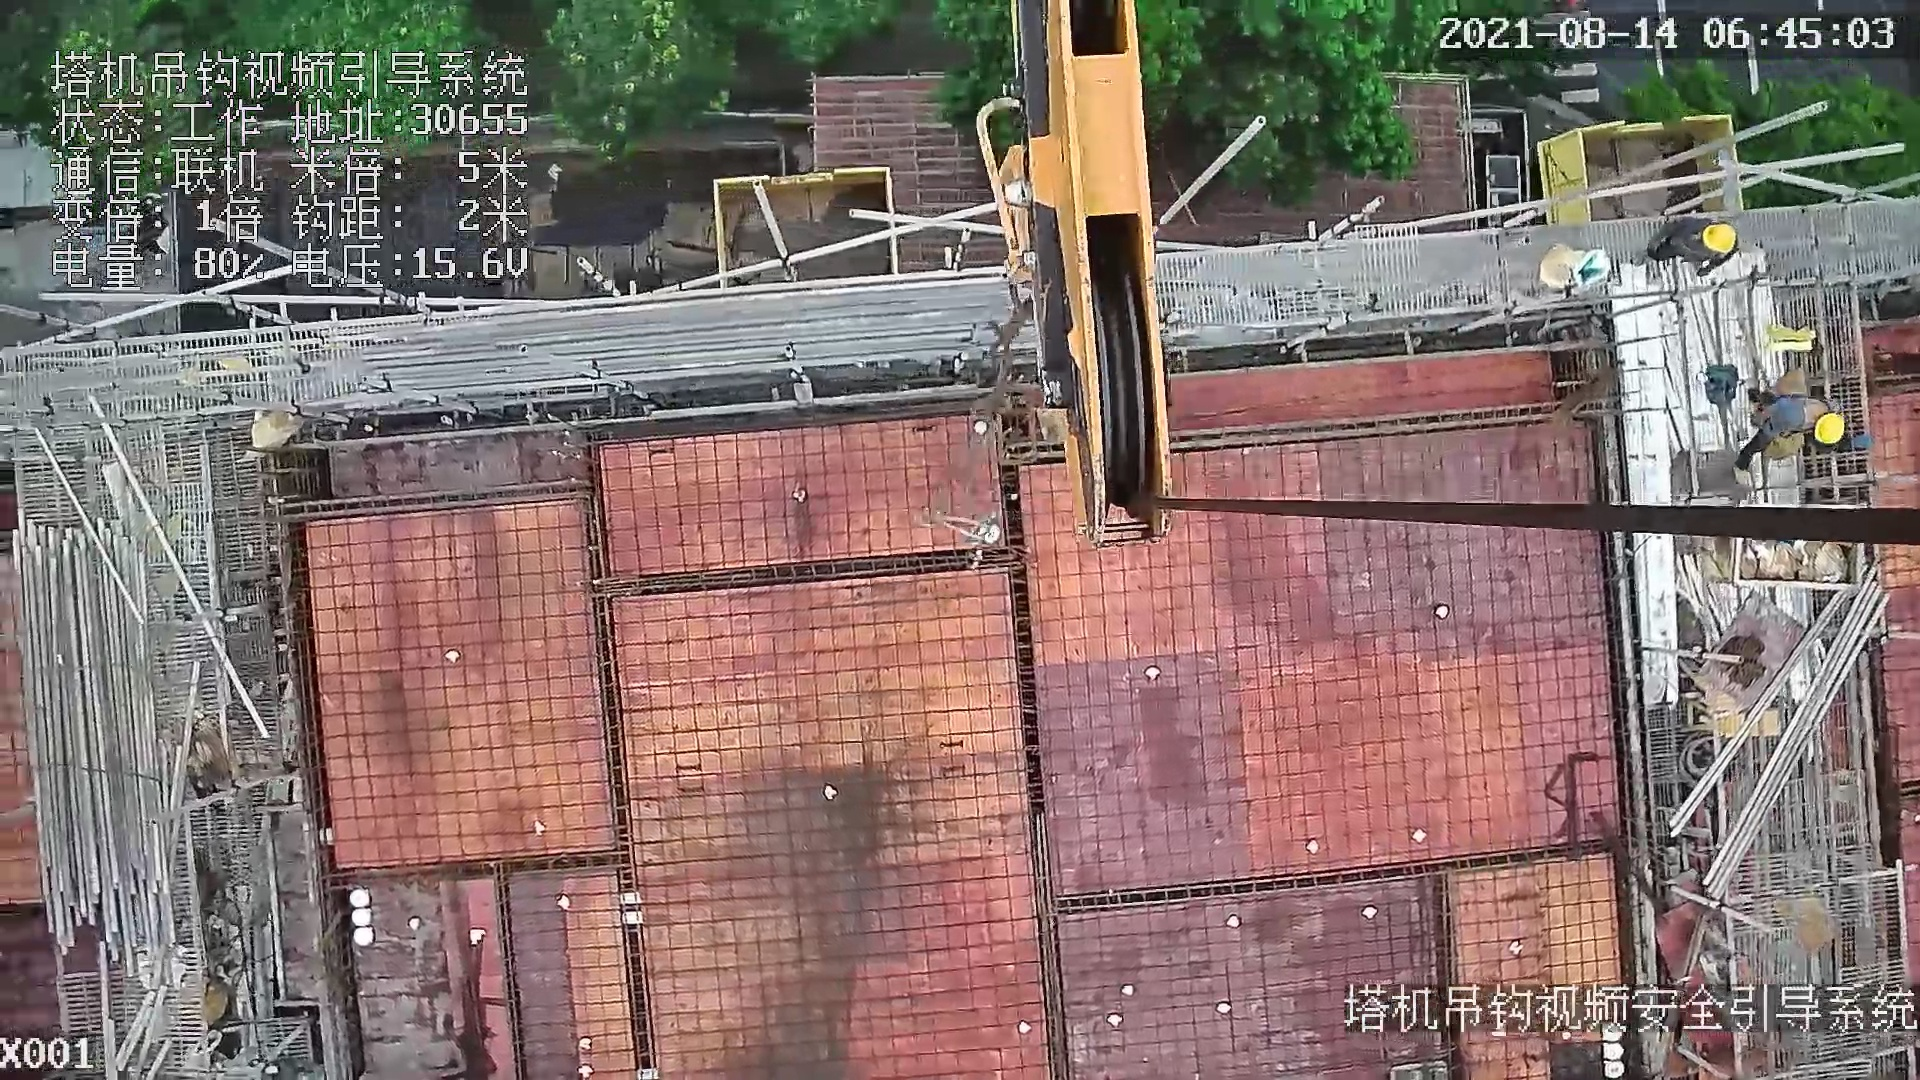helmet: (1703, 223, 1737, 256), (1818, 416, 1844, 449)
hook: (968, 8, 1179, 550)
person: (1736, 389, 1851, 483), (1642, 209, 1742, 285)
